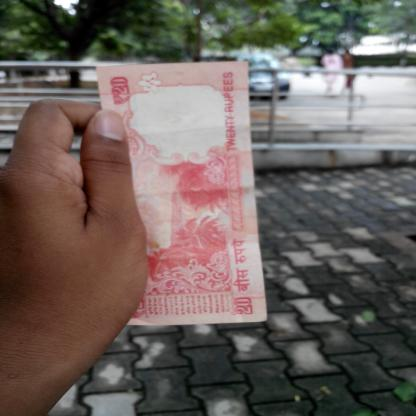Old20Back: (96, 61, 268, 325)
